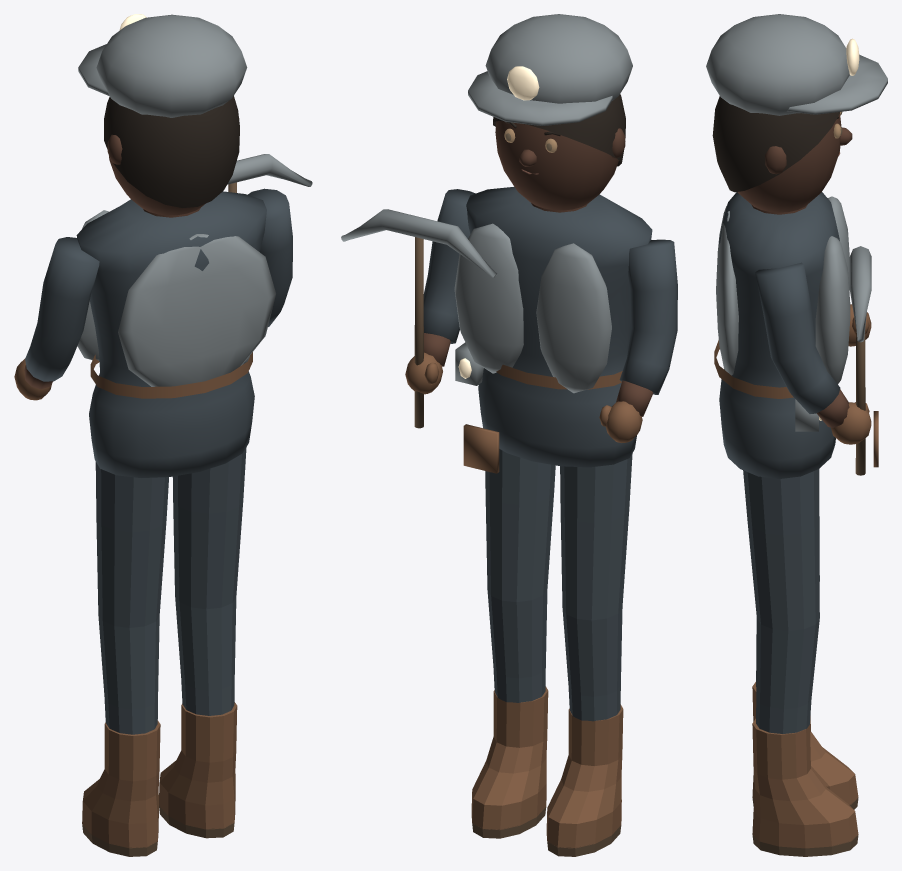
Rendered from SM_NPC_PEDRO.glb.
3 views of the same model, side by side, from view 1: azimuth 30°, elevation 25°; view 2: azimuth 150°, elevation 25°; view 3: azimuth 270°, elevation 25° (orthographic). The views are drawn at different scales.
Parts seen in each view (by area): view 1: SM_NPC_PEDRO_BODY, SM_NPC_PEDRO_LEG_L, SM_NPC_PEDRO_HAIR, SM_NPC_PEDRO_LEG_R, SM_NPC_PEDRO_ARM_L, SM_NPC_PEDRO_ARM_R, SM_NPC_PEDRO_HEAD; view 2: SM_NPC_PEDRO_BODY, SM_NPC_PEDRO_LEG_L, SM_NPC_PEDRO_LEG_R, SM_NPC_PEDRO_HAIR, SM_NPC_PEDRO_ARM_R, SM_NPC_PEDRO_ARM_L, SM_NPC_PEDRO_HEAD; view 3: SM_NPC_PEDRO_BODY, SM_NPC_PEDRO_LEG_R, SM_NPC_PEDRO_HAIR, SM_NPC_PEDRO_ARM_R, SM_NPC_PEDRO_HEAD, SM_NPC_PEDRO_LEG_L, SM_NPC_PEDRO_ARM_L.
Part boxes in pixels (box(x1,y1,x2,y2)): SM_NPC_PEDRO_BODY: box(76, 191, 275, 477); SM_NPC_PEDRO_LEG_L: box(82, 461, 168, 856); SM_NPC_PEDRO_HAIR: box(78, 14, 247, 207); SM_NPC_PEDRO_LEG_R: box(159, 447, 246, 838); SM_NPC_PEDRO_ARM_L: box(14, 237, 99, 400); SM_NPC_PEDRO_ARM_R: box(227, 154, 312, 326); SM_NPC_PEDRO_HEAD: box(107, 118, 239, 215); SM_NPC_PEDRO_BODY: box(454, 187, 652, 473); SM_NPC_PEDRO_LEG_L: box(546, 453, 632, 856); SM_NPC_PEDRO_LEG_R: box(471, 449, 555, 838); SM_NPC_PEDRO_HAIR: box(468, 14, 632, 166); SM_NPC_PEDRO_ARM_R: box(341, 189, 497, 428); SM_NPC_PEDRO_ARM_L: box(599, 239, 677, 442); SM_NPC_PEDRO_HEAD: box(495, 121, 625, 210); SM_NPC_PEDRO_BODY: box(714, 192, 878, 478); SM_NPC_PEDRO_LEG_R: box(743, 469, 858, 856); SM_NPC_PEDRO_HAIR: box(706, 14, 887, 192); SM_NPC_PEDRO_ARM_R: box(755, 246, 871, 475); SM_NPC_PEDRO_HEAD: box(737, 114, 852, 212); SM_NPC_PEDRO_LEG_L: box(752, 469, 858, 809); SM_NPC_PEDRO_ARM_L: box(848, 304, 871, 346).
Bounding box in the file's own units: 0.7367 × 1.87 × 0.3848.
